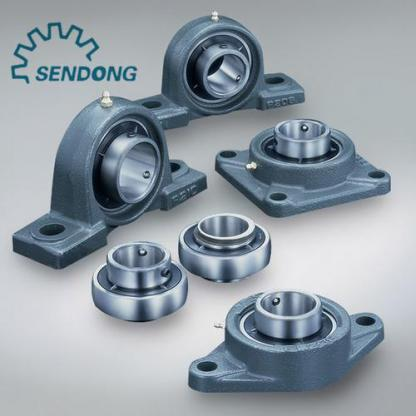FOD: (87, 239, 190, 322), (178, 210, 275, 284), (235, 286, 340, 350), (262, 116, 345, 169)
